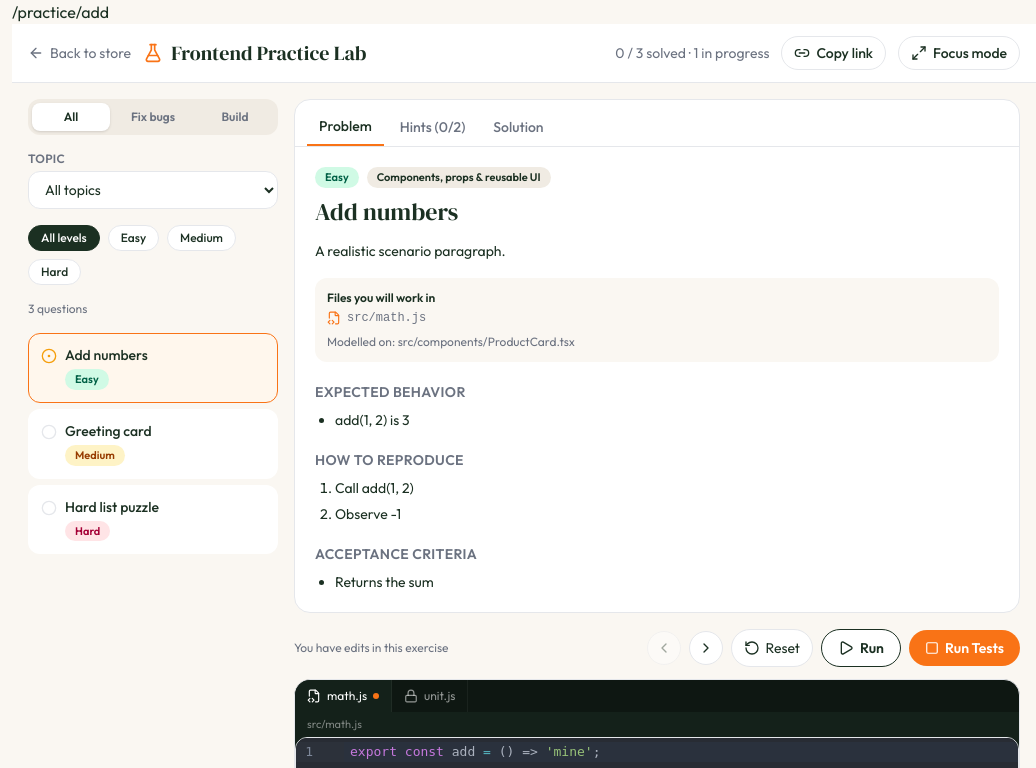
hints and solution › hides the solution until revealed, then shows it read-only and keeps the learner's code
The image size is (1036, 768).
Click the tab "Solution": (518, 127) [481,108,556,146]
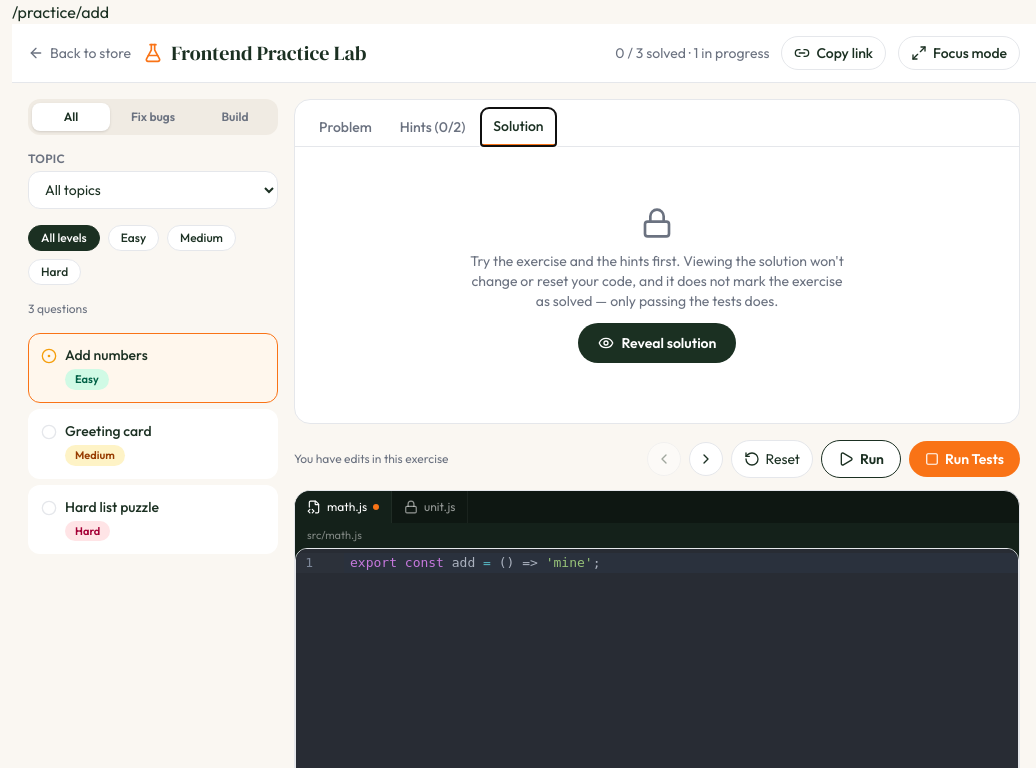
Click the button "Reveal solution": (657, 343) [578,323,736,363]
(page scrolled)
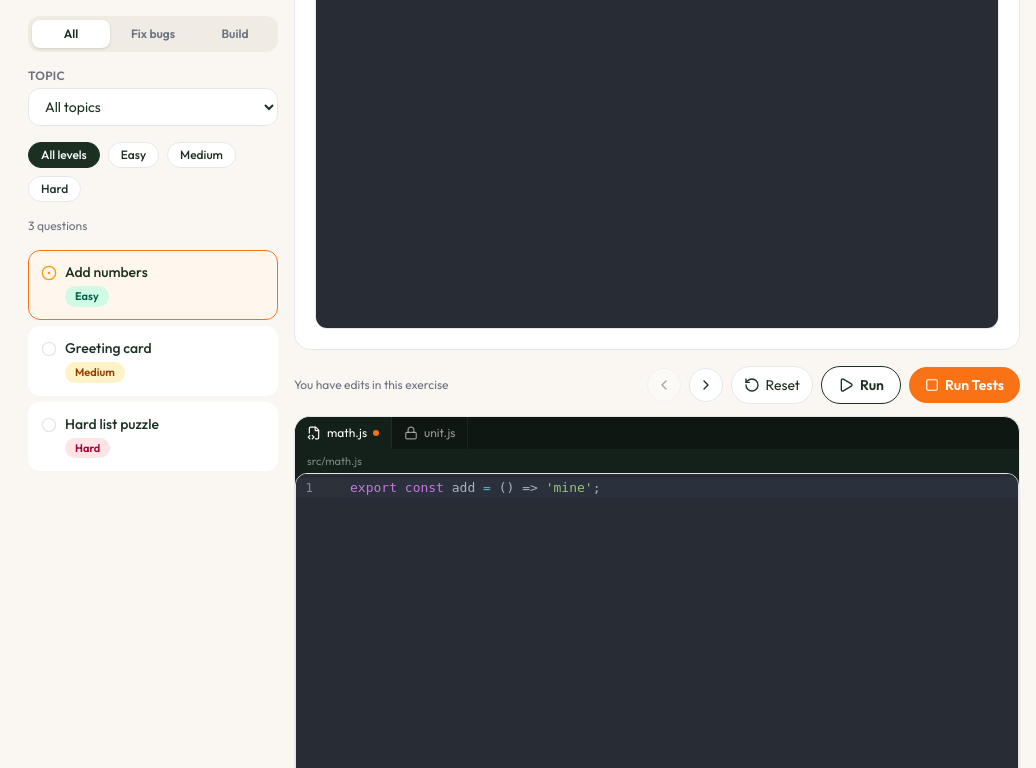
Expected: the text box labelled "export const add = () => 'mine';" is shown, [344,478,1018,498]
Click the button "Run Tests": (964, 384) [909,366,1020,402]
(page scrolled)
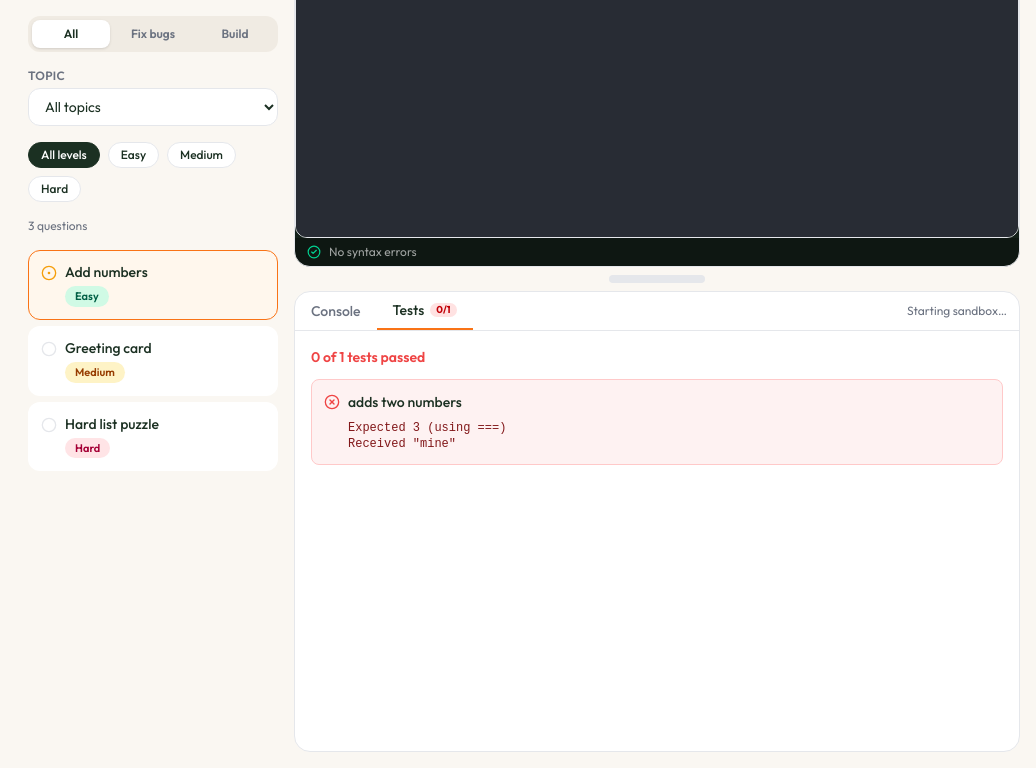
Now the element with test id "results" shows "0 of 1 tests passed", box [311,348,425,366]
